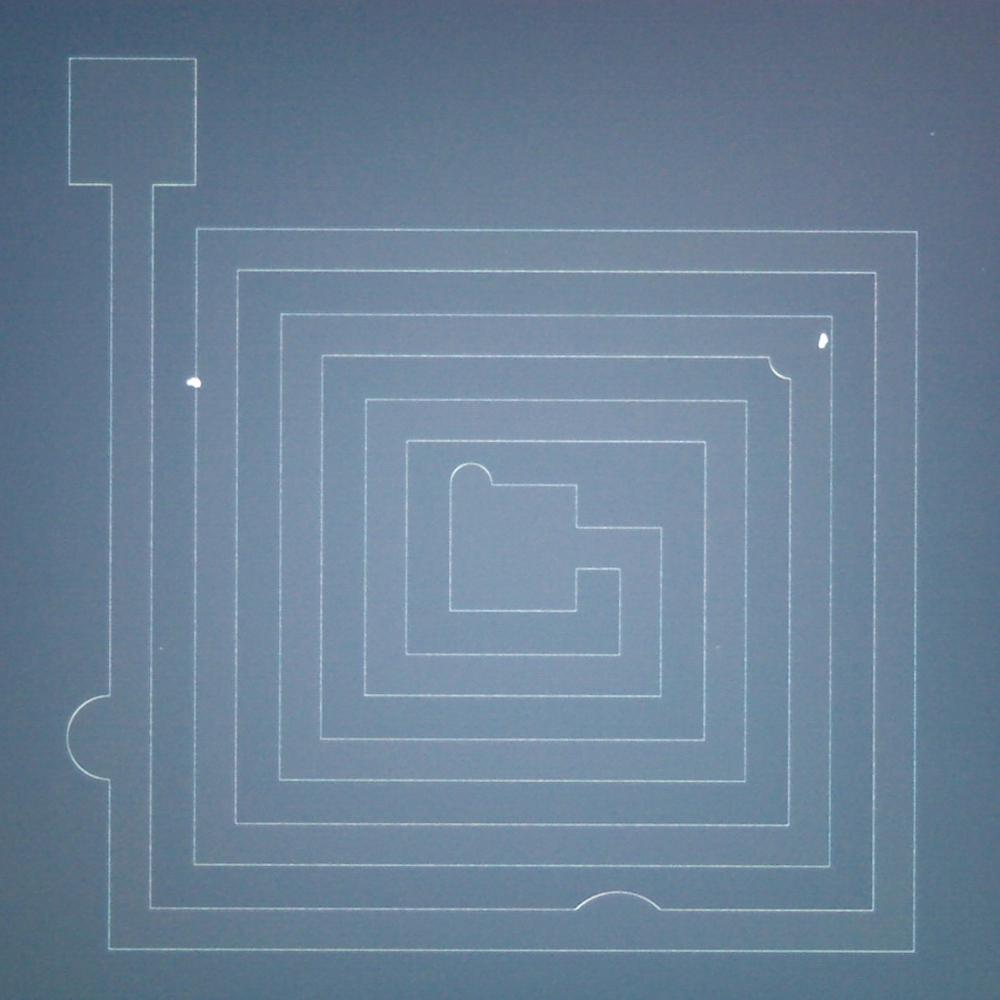dot: (815, 334, 830, 349), (186, 376, 202, 390), (930, 131, 936, 137)
